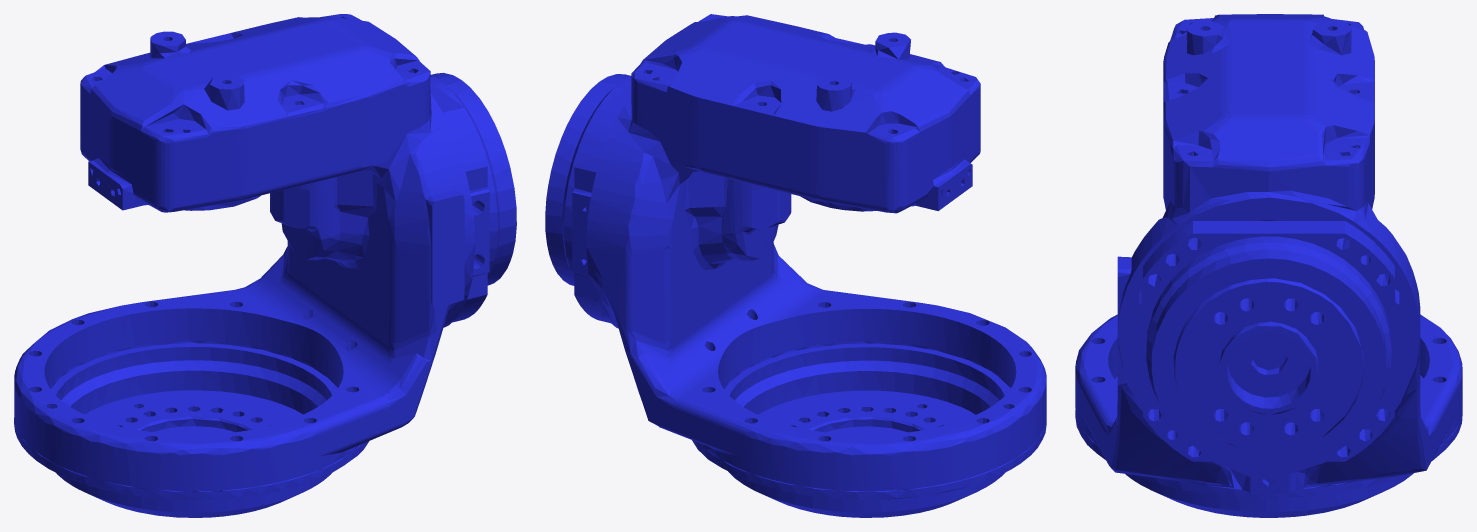
3 renders of one model, left to right at view 1: azimuth 30°, elevation 25°; view 2: azimuth 150°, elevation 25°; view 3: azimuth 270°, elevation 25°, orthographic. The views are drawn at different scales.
Parts seen in each view (by area): view 1: /Link5/Link5_002-mesh/0; view 2: /Link5/Link5_002-mesh/0; view 3: /Link5/Link5_002-mesh/0.
Part boxes in pixels (bbox=[...]): /Link5/Link5_002-mesh/0: bbox=[14, 14, 516, 517]; /Link5/Link5_002-mesh/0: bbox=[545, 14, 1046, 517]; /Link5/Link5_002-mesh/0: bbox=[1075, 14, 1462, 517].
Bounding box in the file's own units: 0.255 × 0.2275 × 0.1831.
